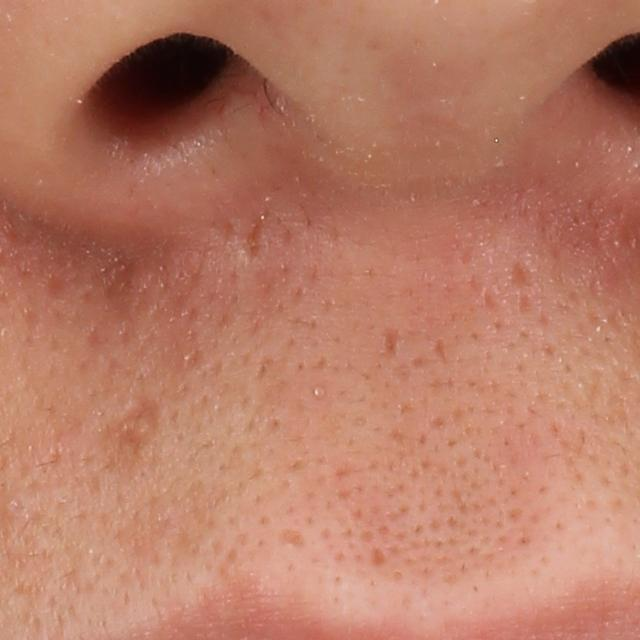atrophic_scar: (98, 391, 171, 474), (244, 210, 261, 265), (509, 257, 534, 291), (278, 526, 312, 550), (381, 329, 403, 359), (431, 337, 448, 369)
